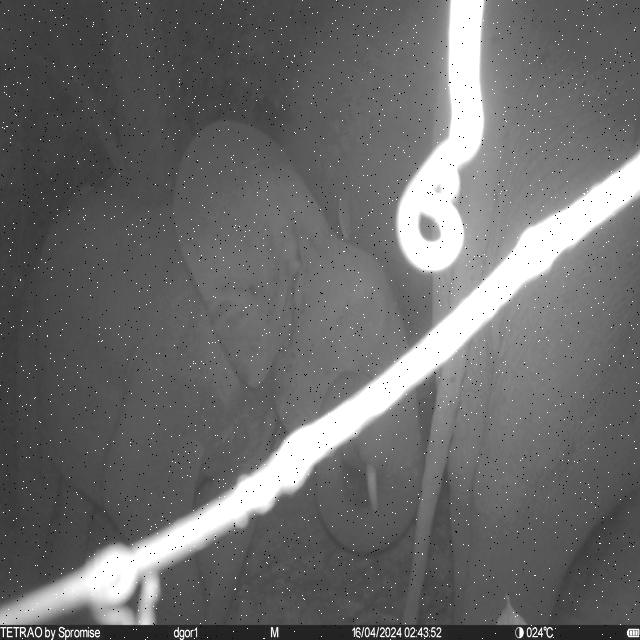calf: (12, 120, 426, 626)
ear: (173, 120, 335, 394)
elephant: (403, 1, 640, 625)
tusk: (364, 463, 384, 516)
